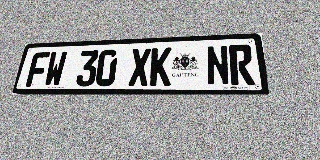0: (95, 49, 118, 86)
3: (75, 50, 99, 86)
F: (25, 52, 50, 87)
K: (149, 47, 172, 86)
N: (206, 45, 230, 86)
R: (229, 44, 255, 85)
W: (43, 51, 68, 87)
X: (128, 48, 151, 86)
